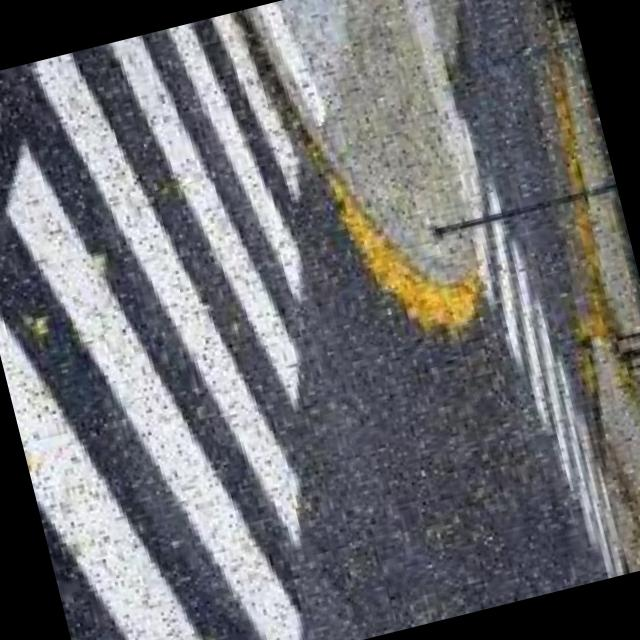zebra: (0, 4, 419, 640), (436, 98, 640, 591)
